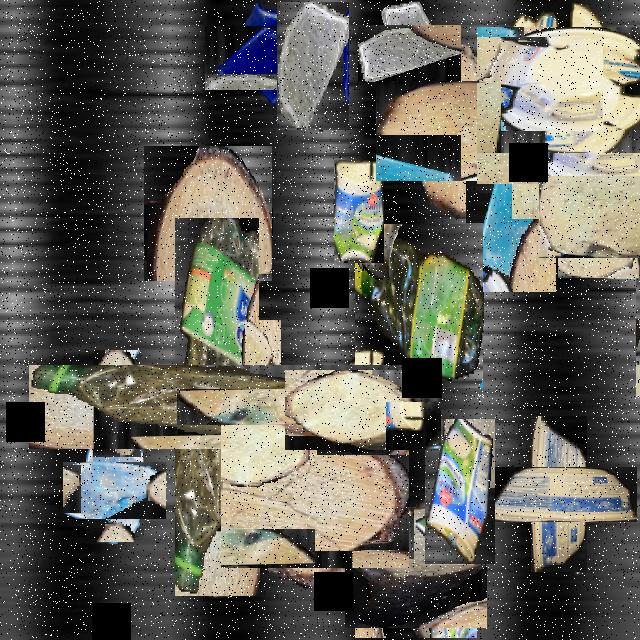glass: (494, 72, 624, 202), (466, 134, 556, 294), (277, 2, 349, 130), (217, 14, 306, 103), (75, 450, 155, 531), (370, 13, 450, 94)
plastic: (101, 292, 332, 522), (489, 14, 640, 166), (355, 224, 483, 388), (506, 441, 612, 547), (425, 420, 495, 566), (334, 160, 384, 263), (636, 247, 640, 397)
wood: (231, 410, 399, 578), (394, 63, 530, 200), (350, 501, 482, 633), (144, 146, 272, 281), (304, 351, 422, 470), (210, 354, 316, 460), (548, 166, 640, 267), (93, 350, 141, 457)
